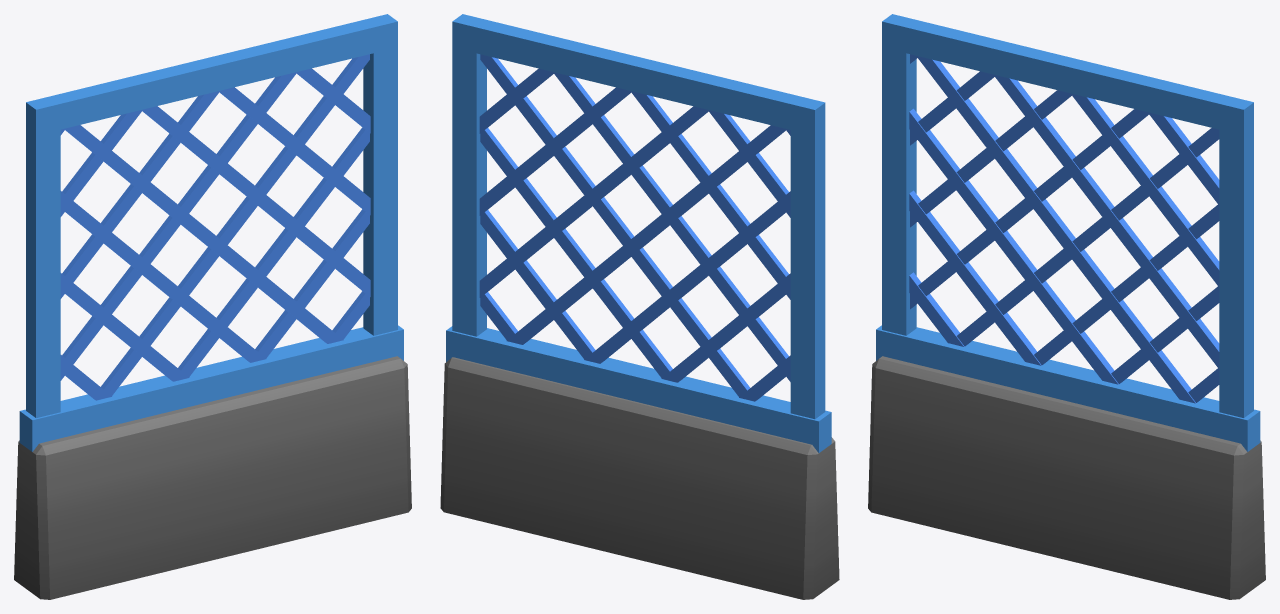
Rendered from Fence_1_G_7.fbx.
3 views of the same model, side by side, from view 1: azimuth 30°, elevation 25°; view 2: azimuth 150°, elevation 25°; view 3: azimuth 330°, elevation 25° (orthographic).
Visible parts, largest first — view 1: Fence_1_G_7; view 2: Fence_1_G_7; view 3: Fence_1_G_7.
Part boxes in pixels (box(x1,y1,x2,y2)): Fence_1_G_7: box(14, 14, 411, 599); Fence_1_G_7: box(440, 14, 839, 599); Fence_1_G_7: box(868, 14, 1265, 599).
Bounding box in the file's own units: 200 × 248 × 30.52.
